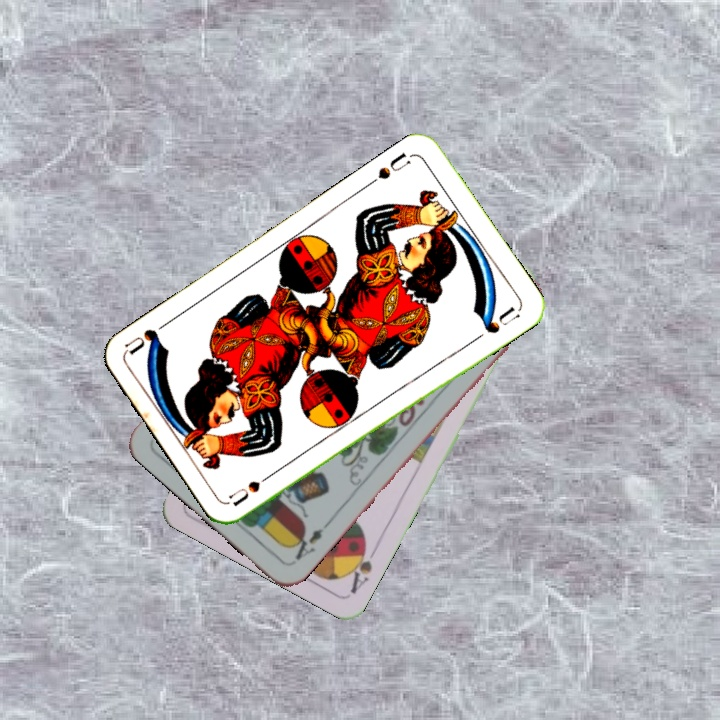EA: (285, 517, 333, 563)
SA: (342, 537, 375, 597)
SU: (225, 466, 280, 509), (373, 148, 413, 183)
